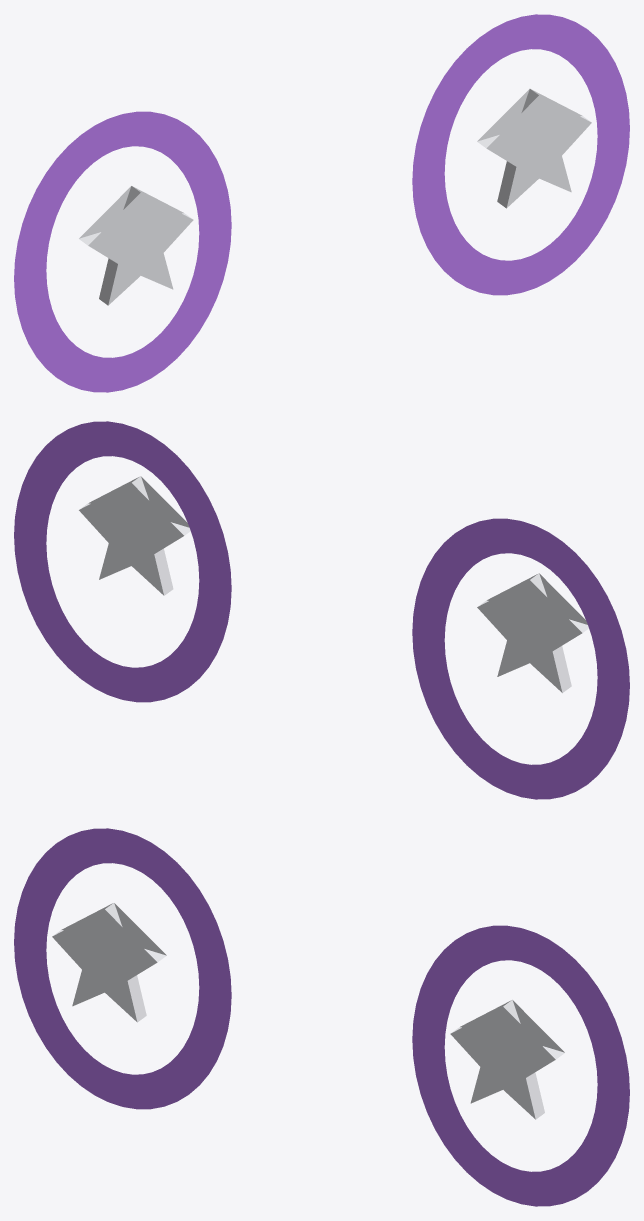
Rendered from anime-eyes.glb.
3 renders of one model, top to bottom at view 1: azimuth 30°, elevation 25°; view 2: azimuth 150°, elevation 25°; view 3: azimuth 330°, elevation 25°, orthographic.
Visible parts, largest first — view 1: iris frame (×2), eye sparkle (×2); view 2: iris frame (×2), eye sparkle (×2); view 3: iris frame (×2), eye sparkle (×2).
Part boxes in pixels (bbox=[...]): iris frame (×2): bbox=[14, 14, 629, 392]; eye sparkle (×2): bbox=[79, 89, 591, 305]; iris frame (×2): bbox=[14, 421, 629, 799]; eye sparkle (×2): bbox=[79, 476, 588, 692]; iris frame (×2): bbox=[14, 828, 629, 1206]; eye sparkle (×2): bbox=[52, 903, 564, 1119].
Bounding box in the file's own units: 1.33 × 0.57 × 0.0675.
